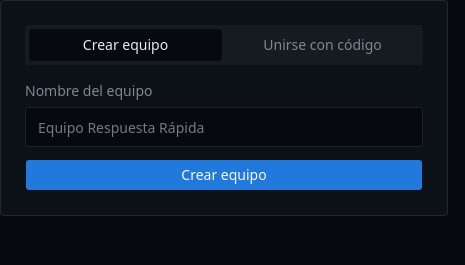
Test: TeamSetup › surfaces server errors
Type "X" into the field with placeholder "Equipo Respuesta Rápida".
click(224, 127); type("X")  # box [25, 107, 423, 147]
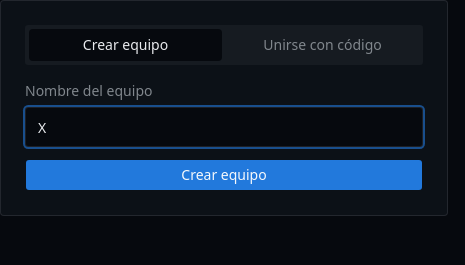
Click the button "Crear equipo".
click(224, 175)  # box [25, 159, 423, 191]
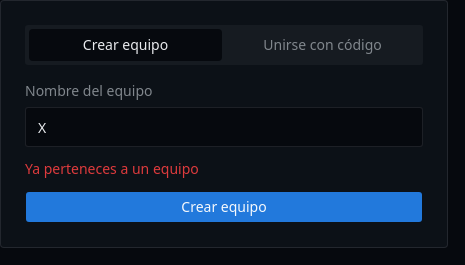
expect the message shows "Ya perteneces": met, box [25, 159, 199, 178]
